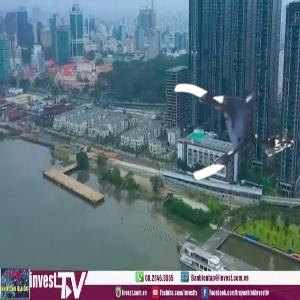drone: (170, 67, 278, 175)
